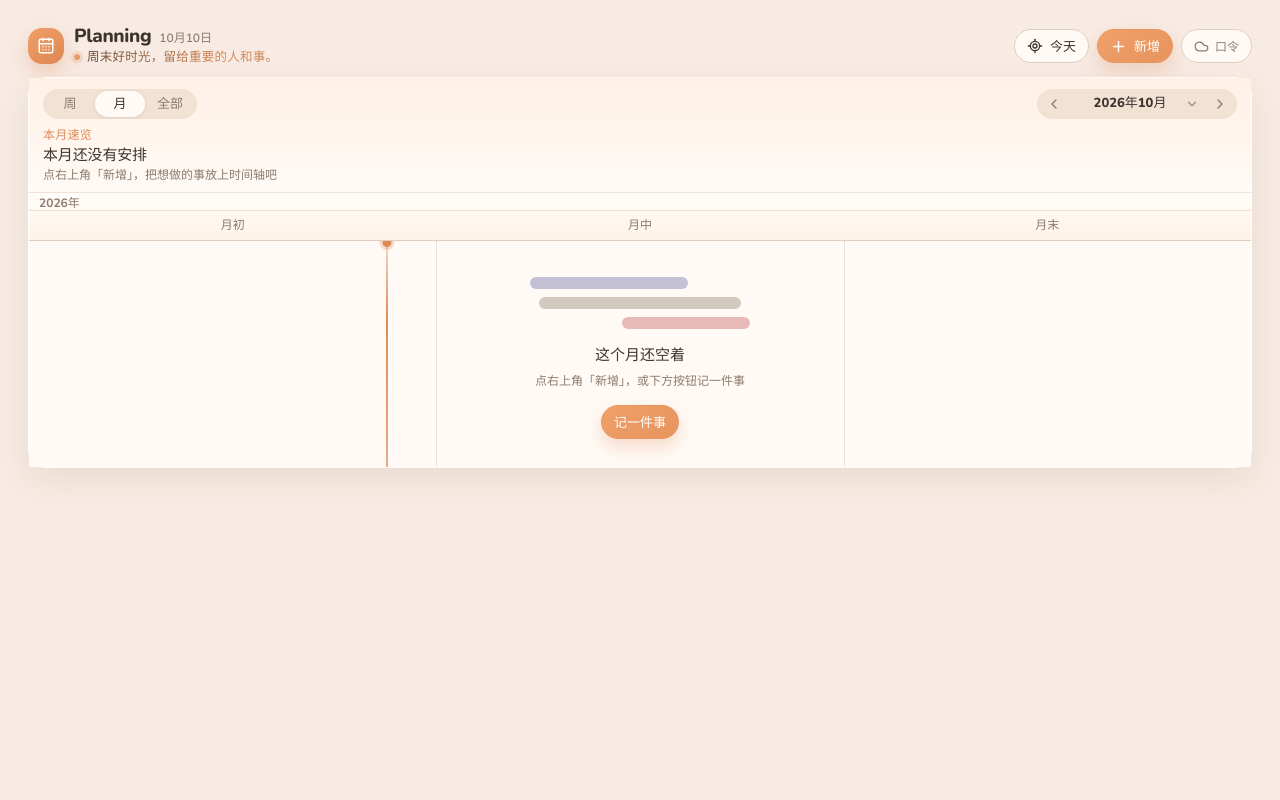
Scenario: Planning › closes the task dialog with Escape
The image size is (1280, 800).
Step 1. Click the button with aria-label "新增事项" → (1135, 46), box [1097,29,1173,63]
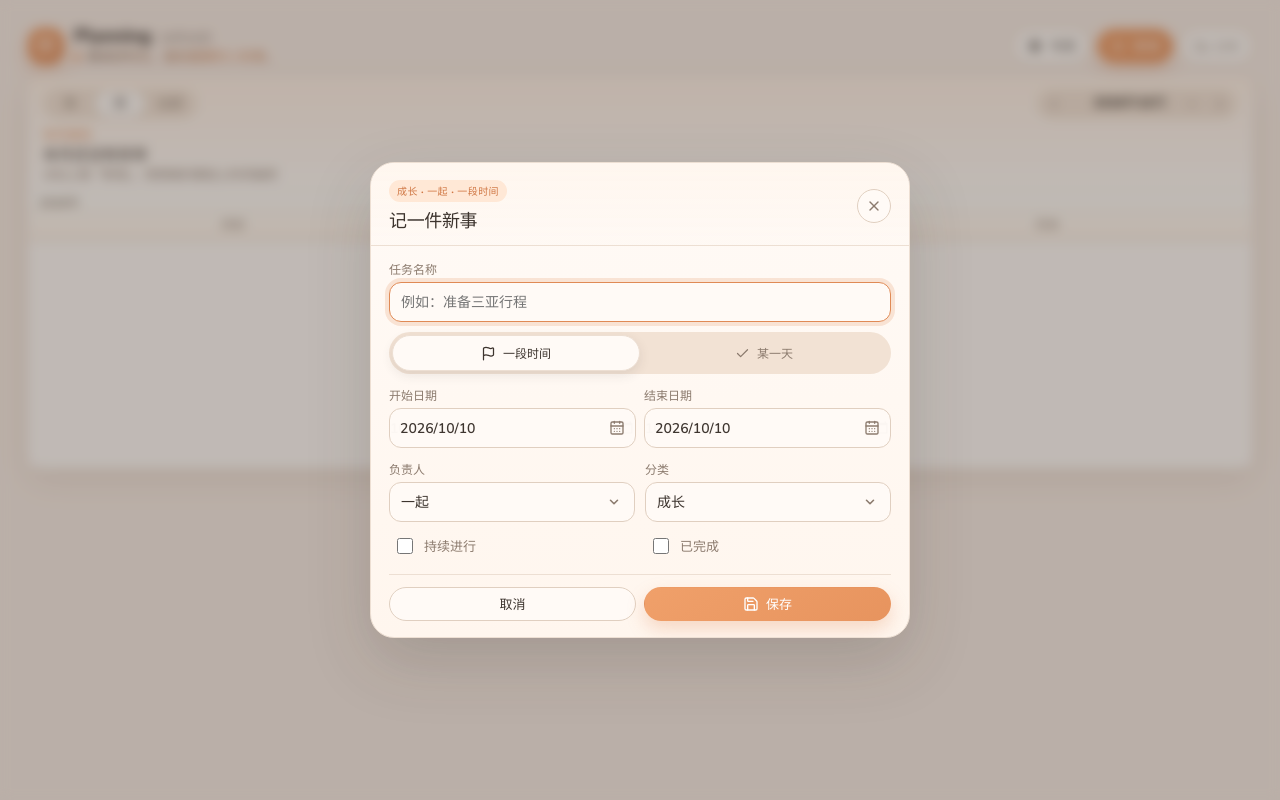
Step 2. Press Escape
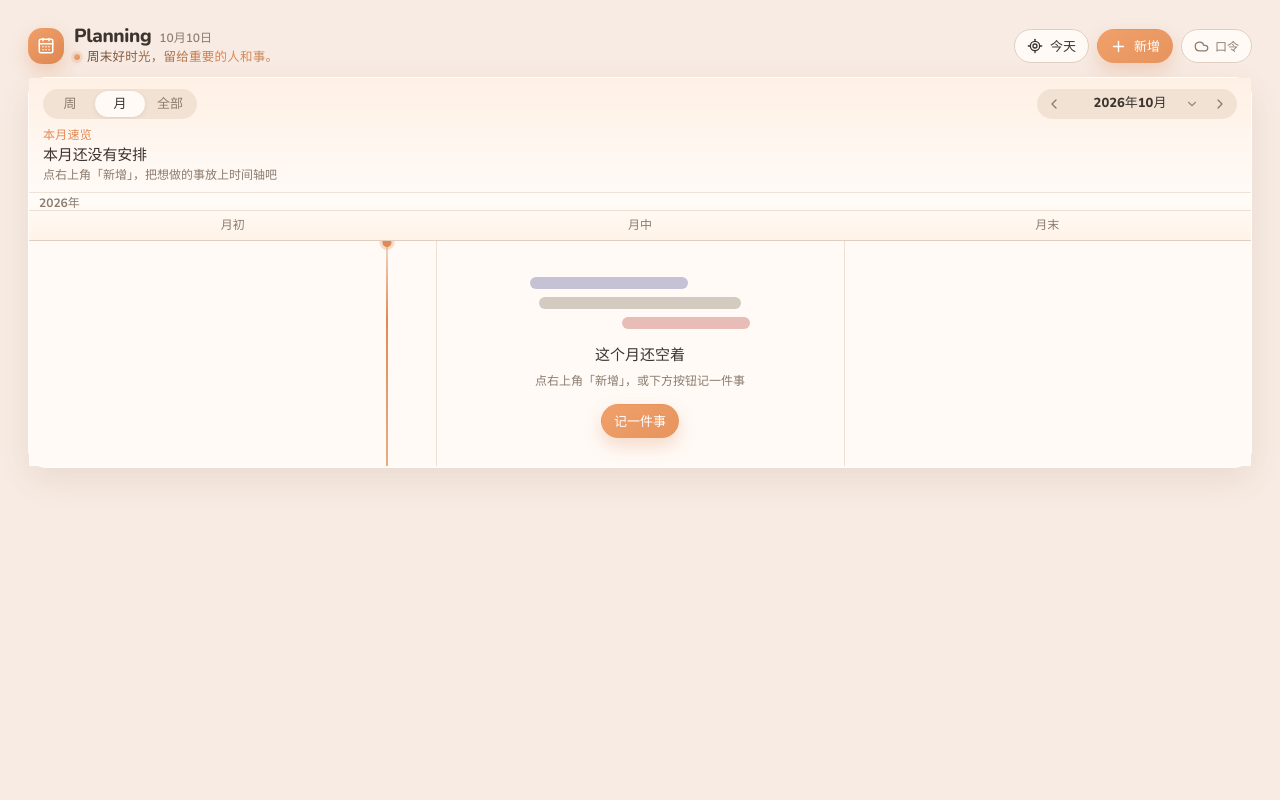
Check: the heading "记一件新事" is gone
